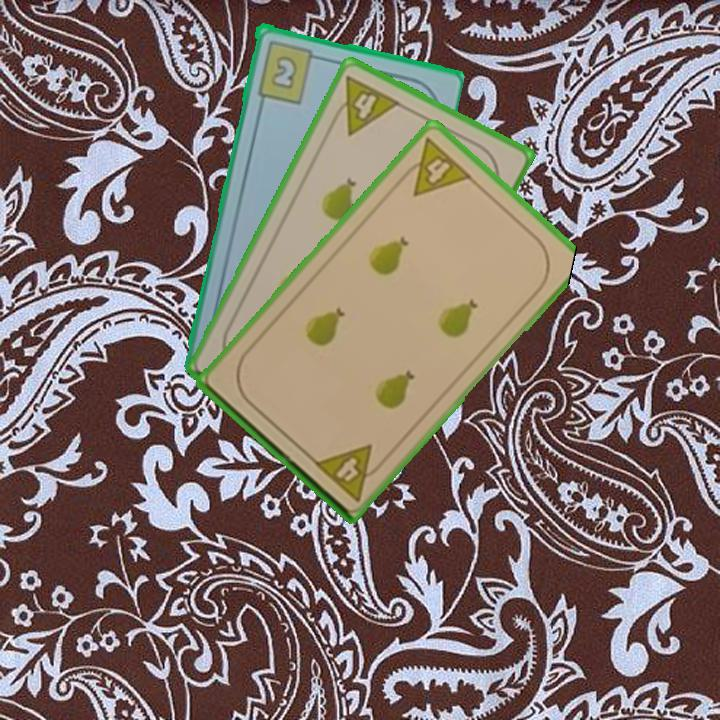2b: (253, 36, 324, 106)
4p: (394, 134, 475, 199), (326, 72, 403, 138), (310, 440, 389, 504)
